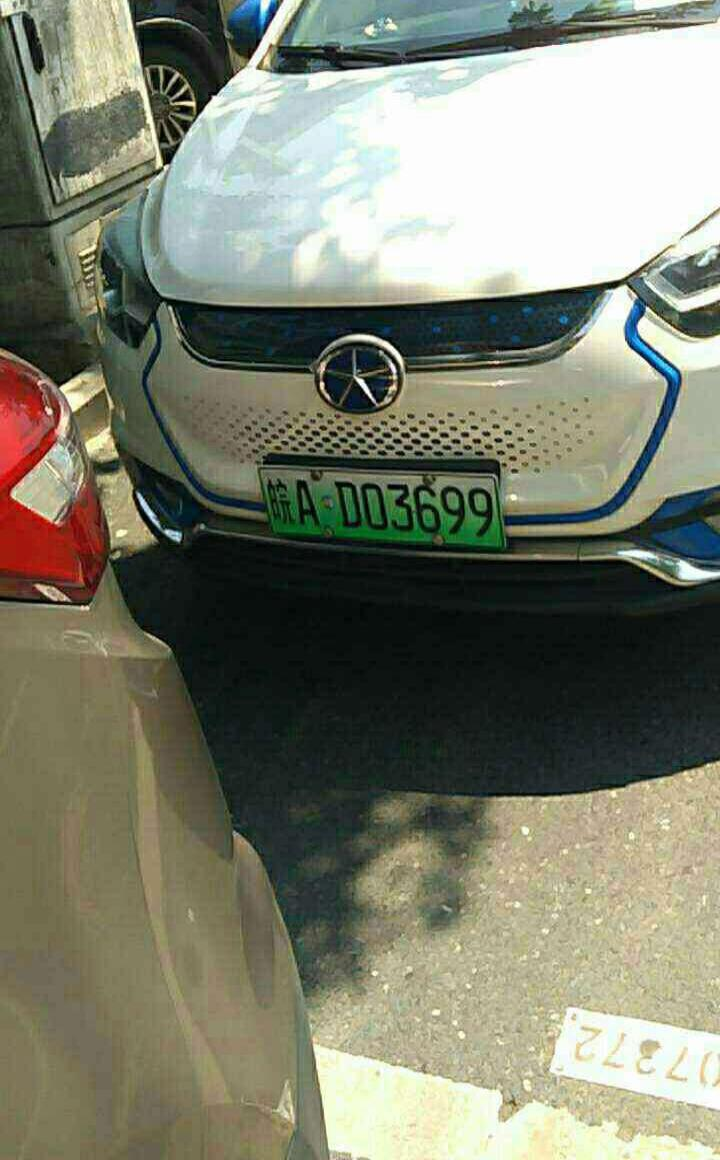car_id: (255, 466, 501, 544)
